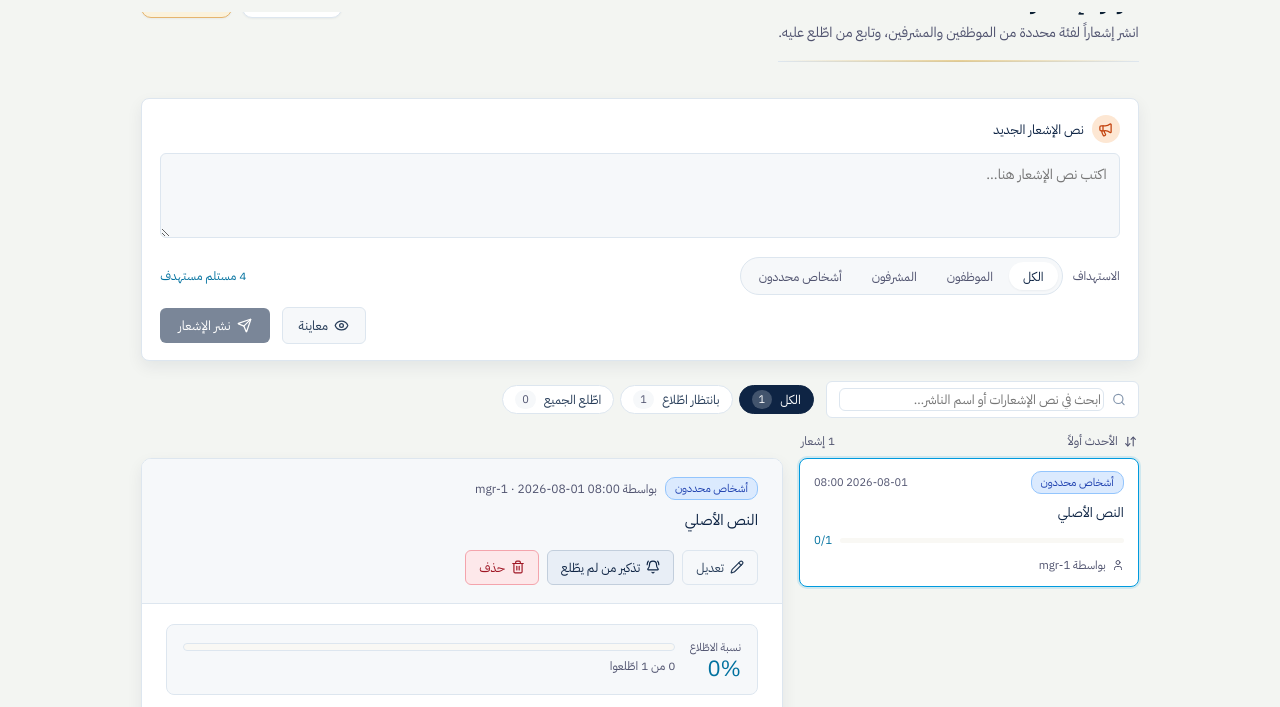
Test: NotificationManager edit action › loads the notification into the composer and saves it in place, preserving its target
(page scrolled)
Click the button "تعديل" at [720, 567], box [682,550,758,585]
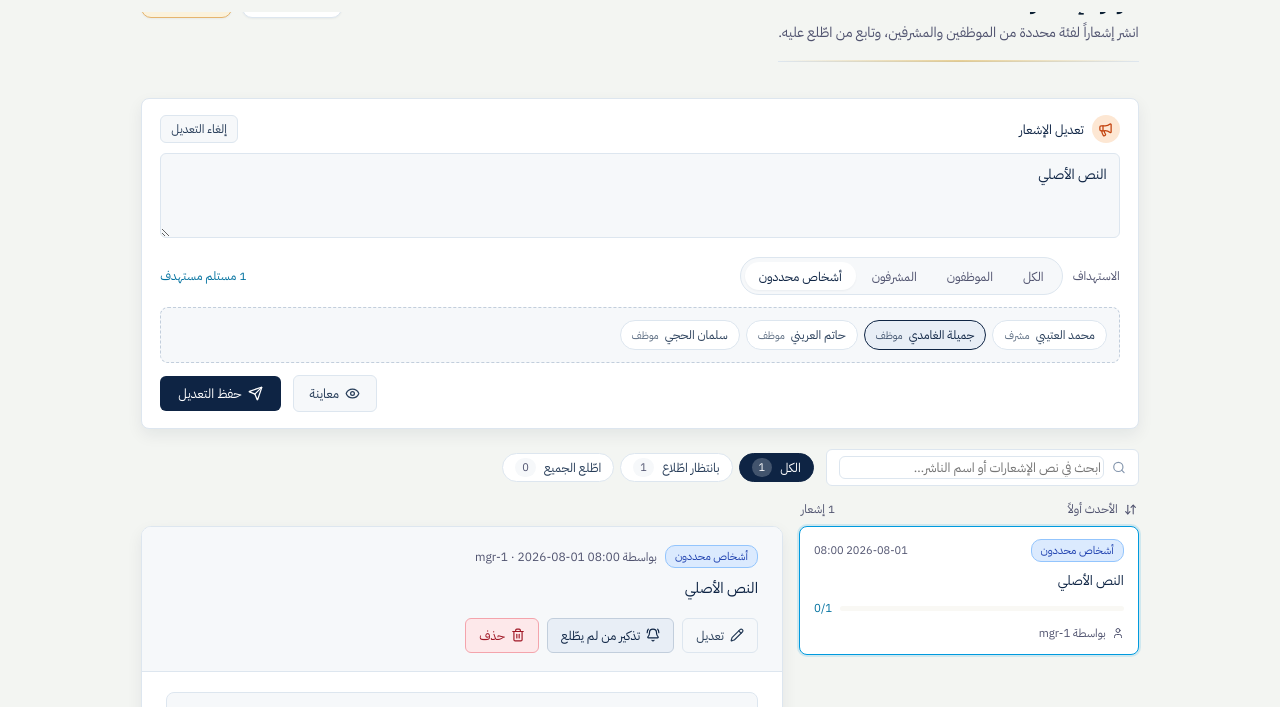
Check: the text "تعديل الإشعار" is shown, box [1019,120,1084,139]
Check: the text box with placeholder "اكتب نص الإشعار هنا..." holds "النص الأصلي"
Replace the text in the text box with placeholder "اكتب نص الإشعار هنا..." with "النص المصحح" at [640, 196], box [160,153,1120,238]
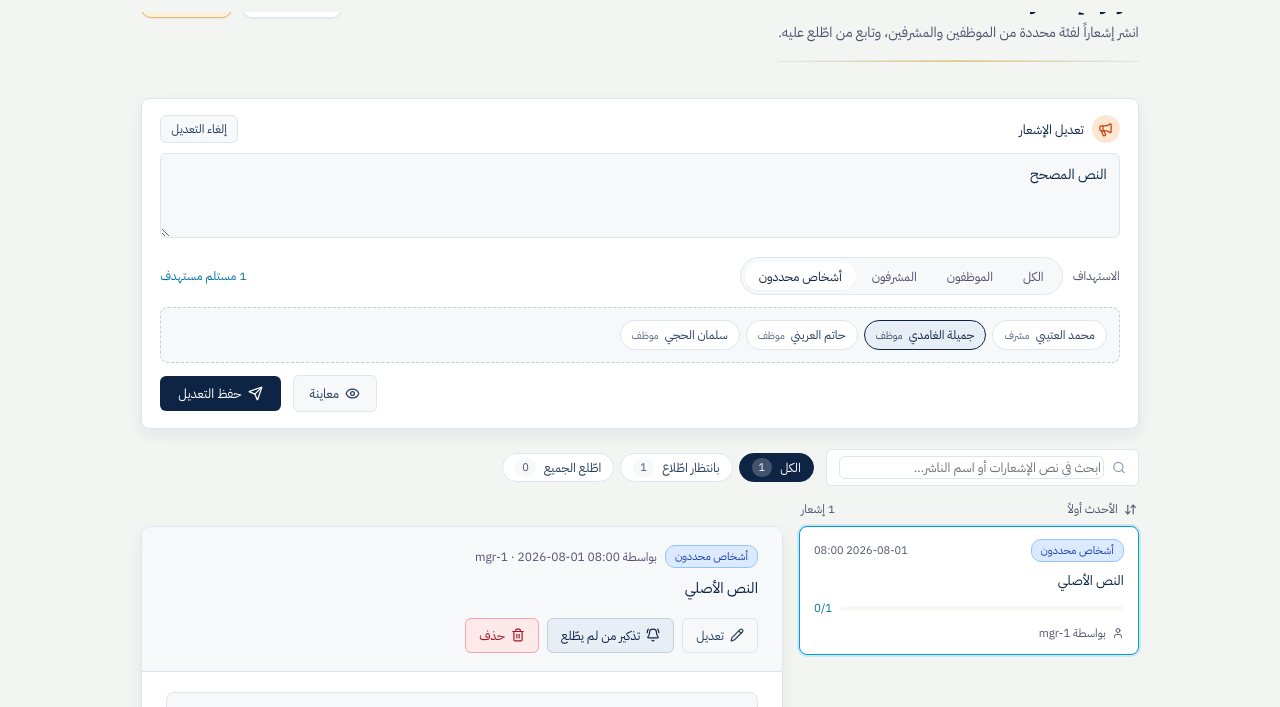
Click the button "حفظ التعديل" at [220, 394], box [160,376,281,411]
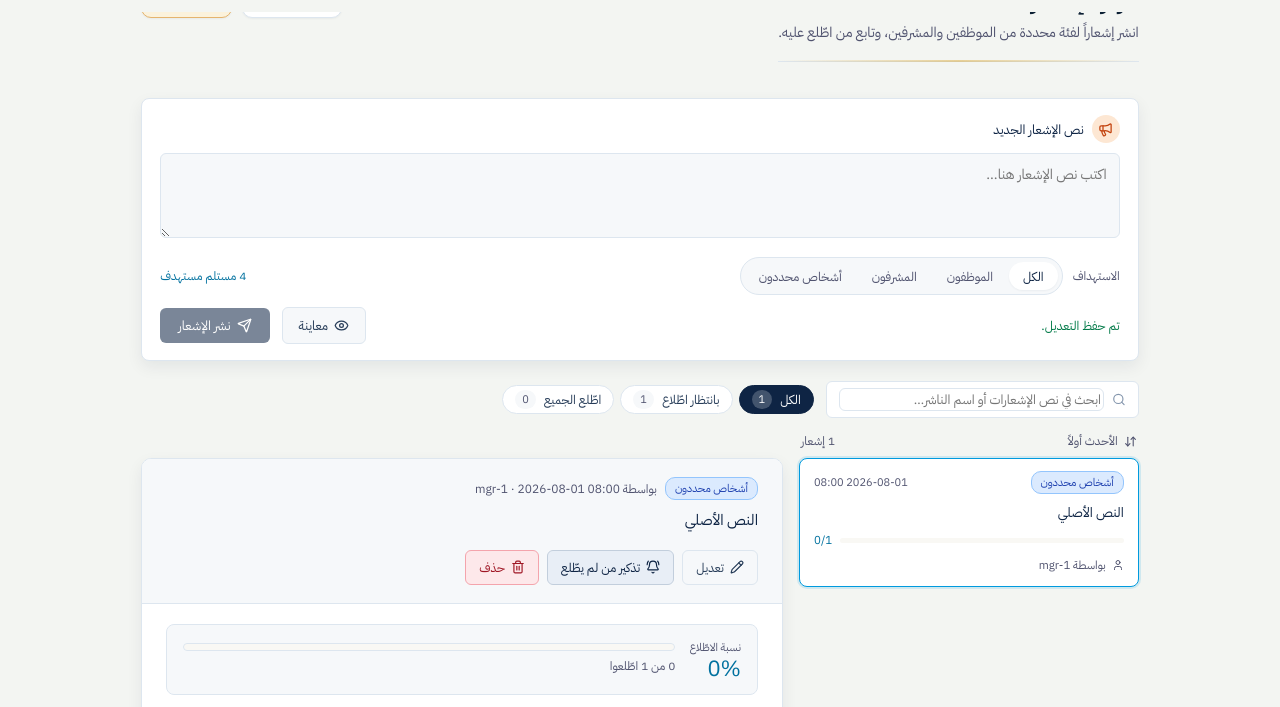
Check: the text "تم حفظ التعديل." is shown, box [1041,316,1120,335]
Check: the text "نص الإشعار الجديد" is shown, box [993,120,1084,139]
Check: the text box with placeholder "اكتب نص الإشعار هنا..." is empty, box [160,153,1120,238]
